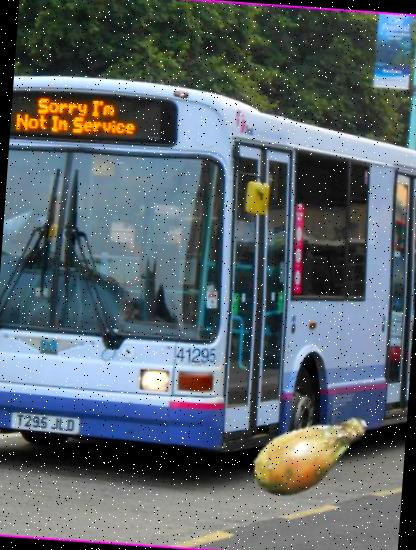Cactus: (245, 388, 378, 520)
